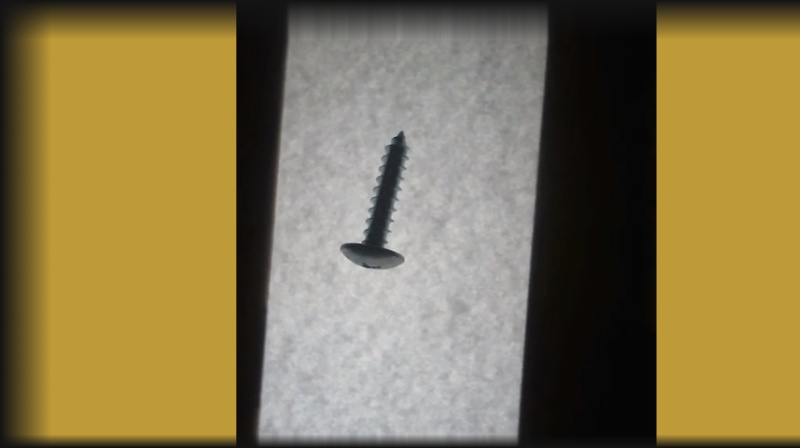S003: (336, 128, 412, 273)
